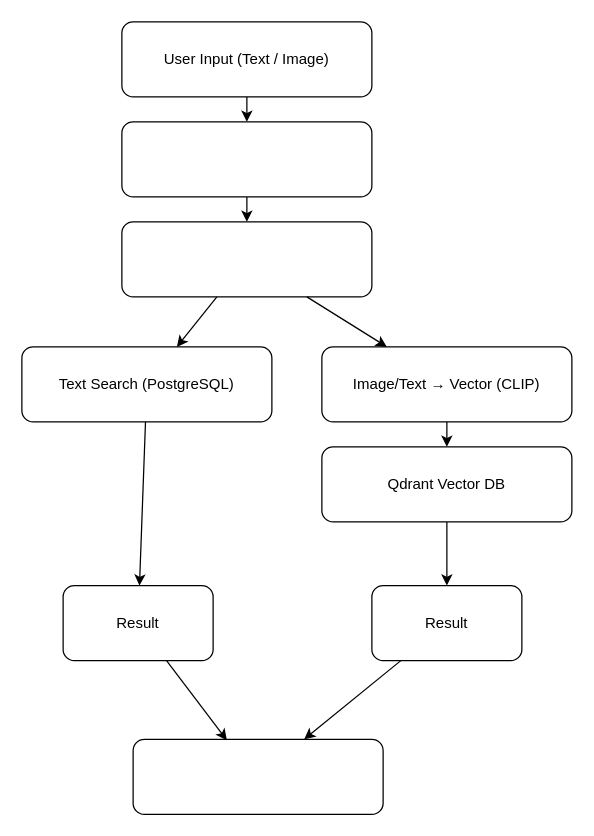
Image size: 594x836. Some labels were removed from this diagram. The box of each missing label's shape, as (x1, y1, x2, y2) in pixels:
Backend API (Python): (121, 221, 372, 297)
Display Results UI: (132, 738, 383, 814)
Frontend (React UI): (121, 121, 372, 197)
